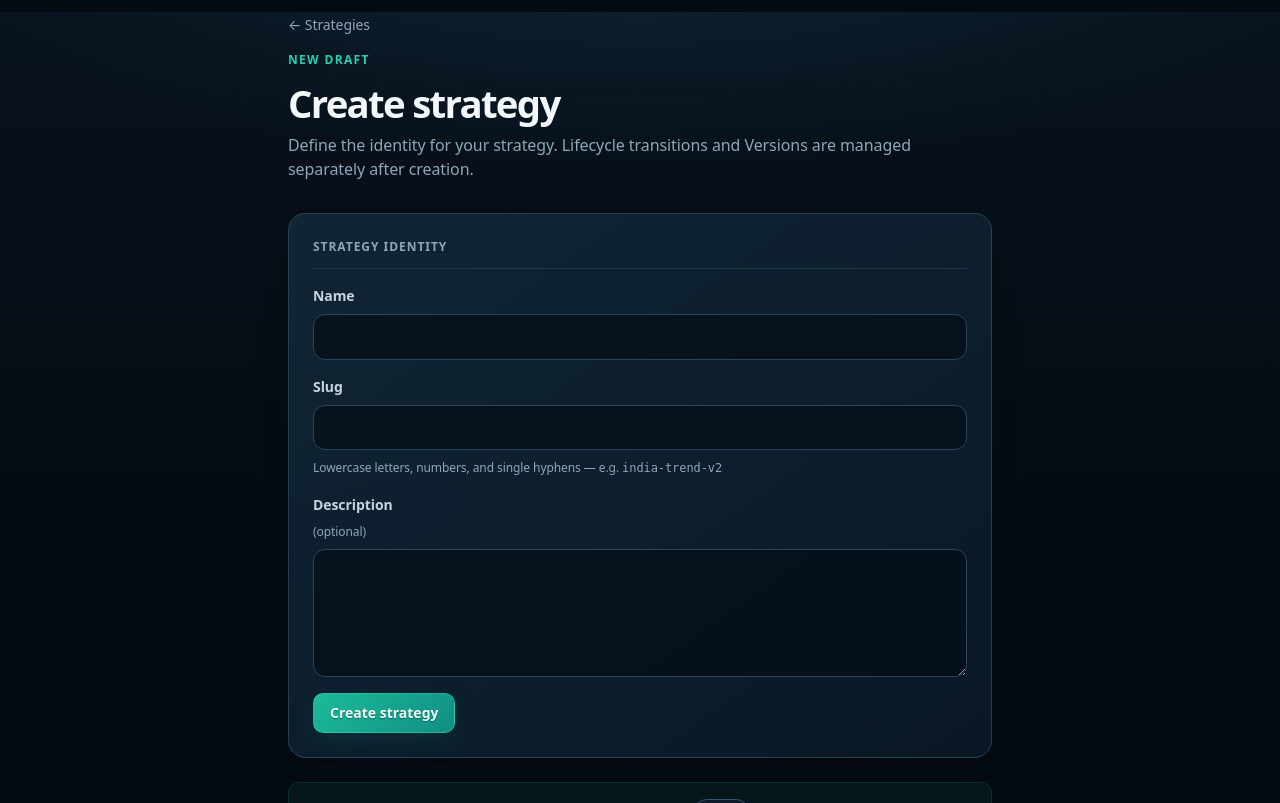
StrategyNewPage — create form › surfaces a generic API error as a form-level alert
In the field labelled "Name": (640, 337) [313,314,967,360], type "Alpha Momentum"
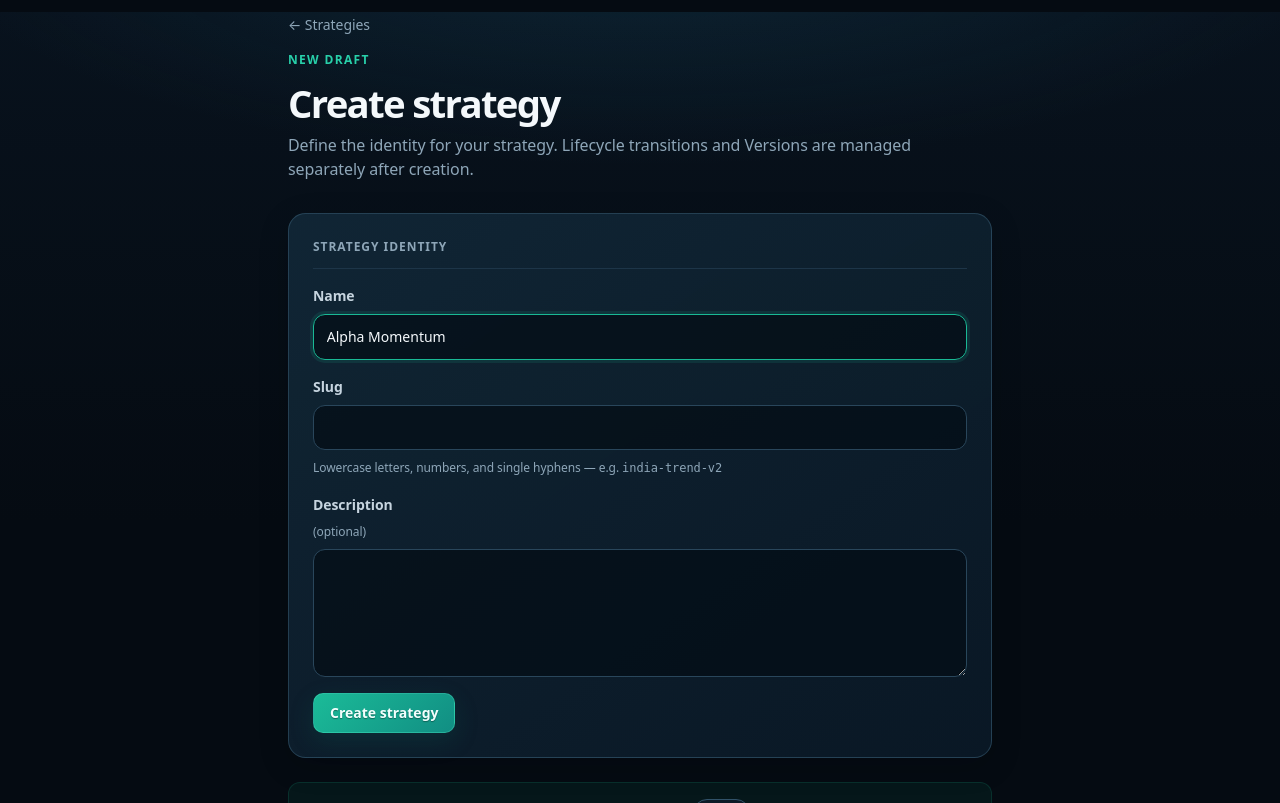
In the field labelled "Slug": (640, 427) [313,404,967,450], type "alpha-momentum"
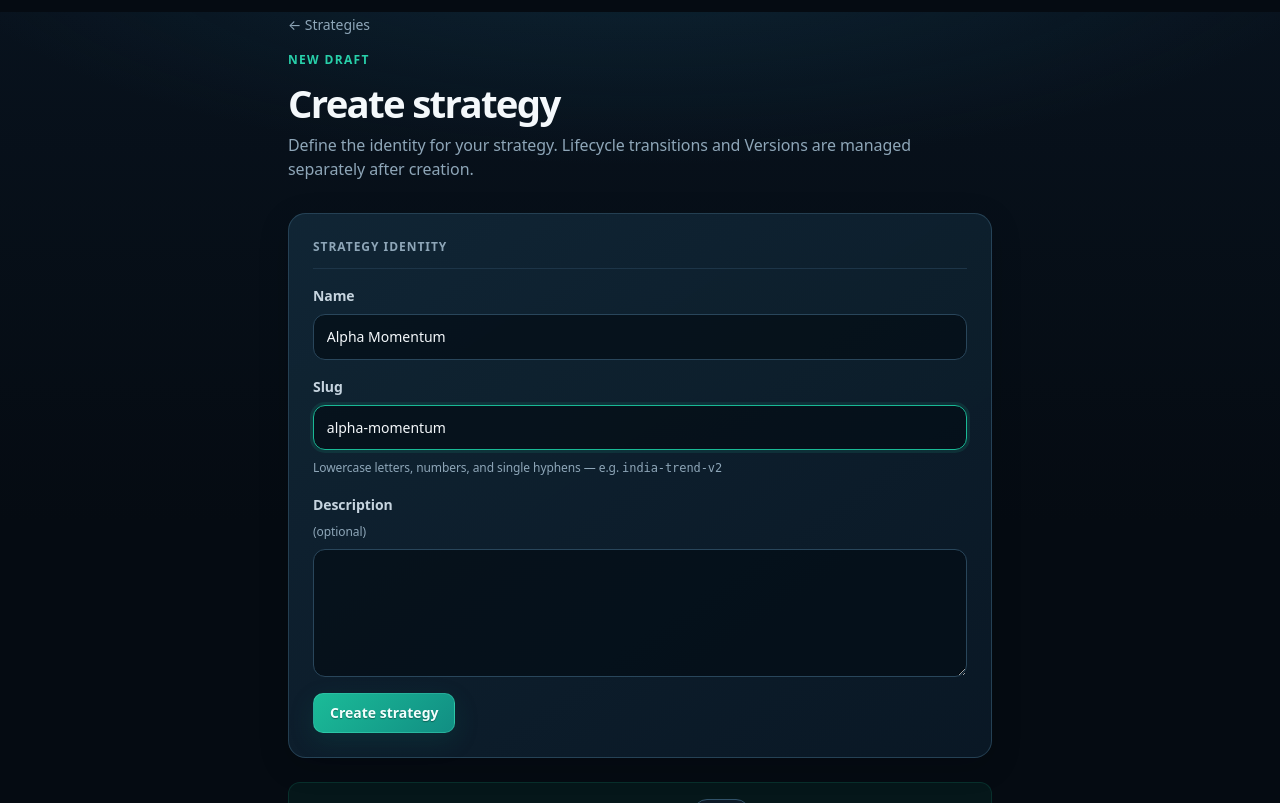
Click the button "Create strategy": (384, 713) [313,693,456,733]
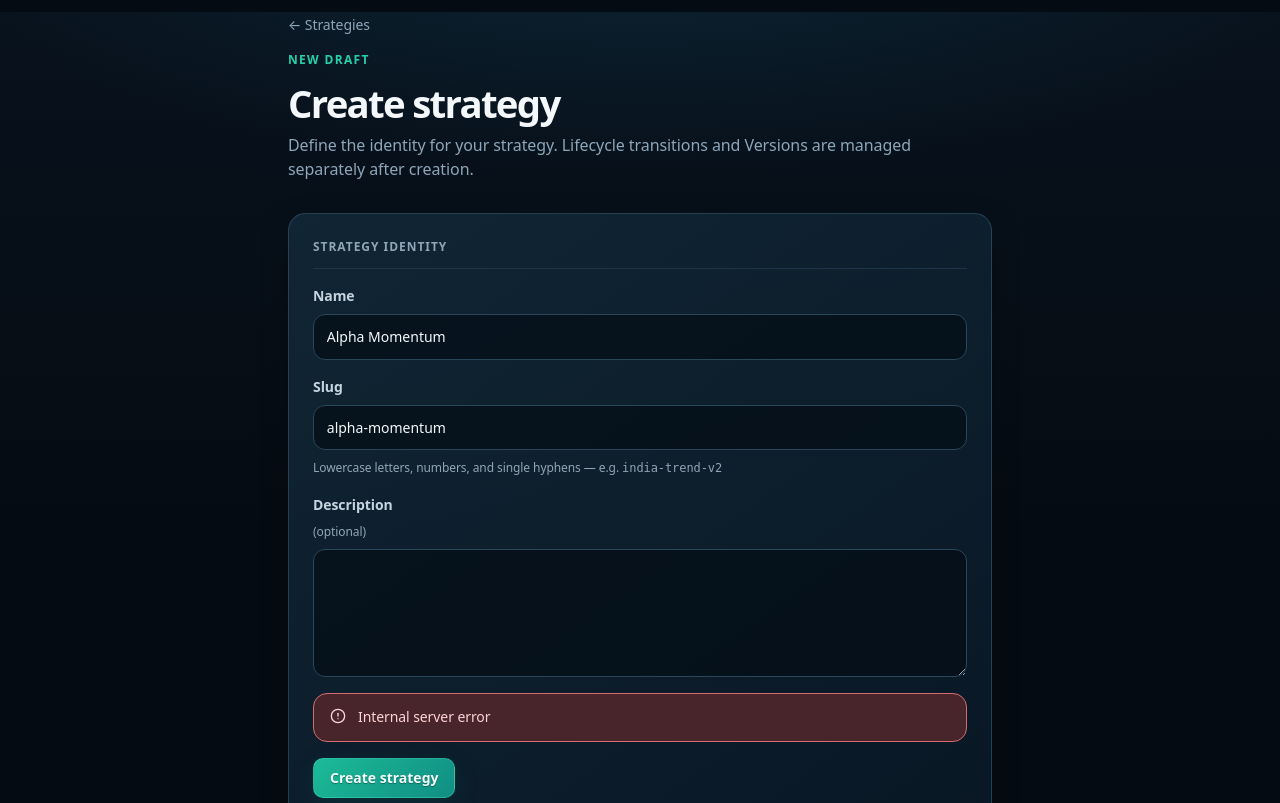
expect the text "Internal server error" is shown: met, box [358,707,490,726]
